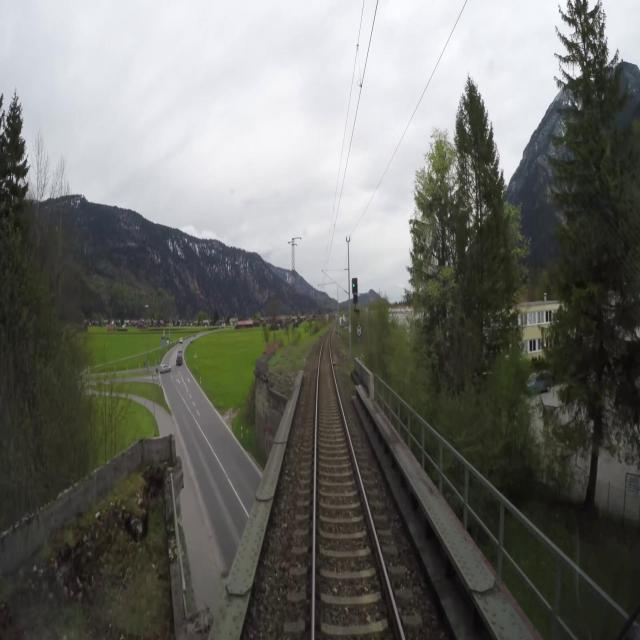rail-track: (316, 332, 400, 639)
